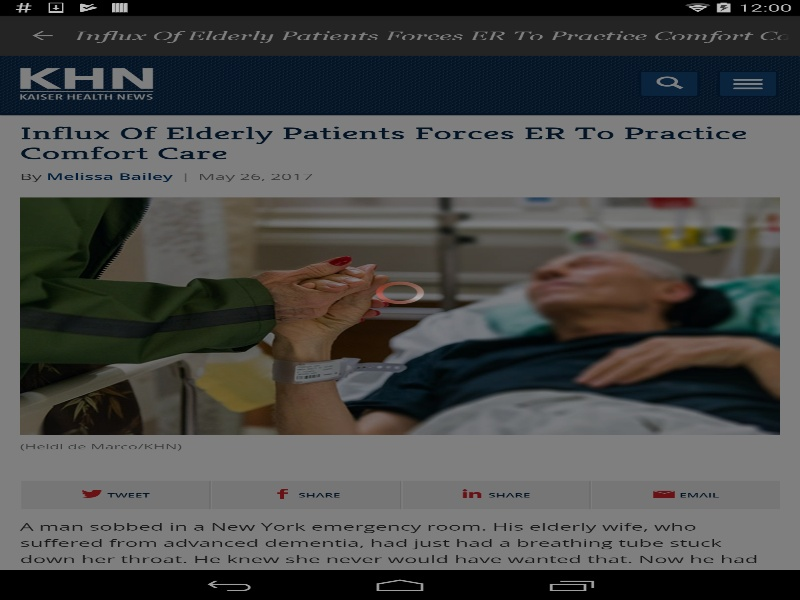Button: (638, 70, 700, 96), (717, 70, 778, 96)
